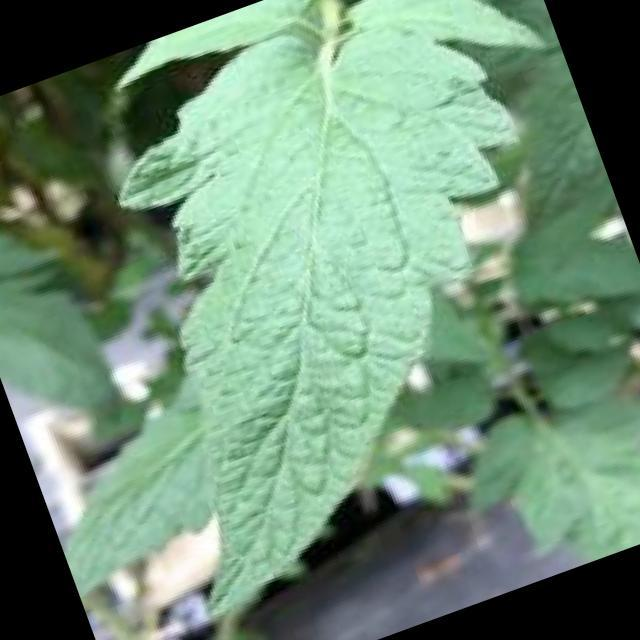Tomato healthy leaf: (121, 0, 533, 621)
